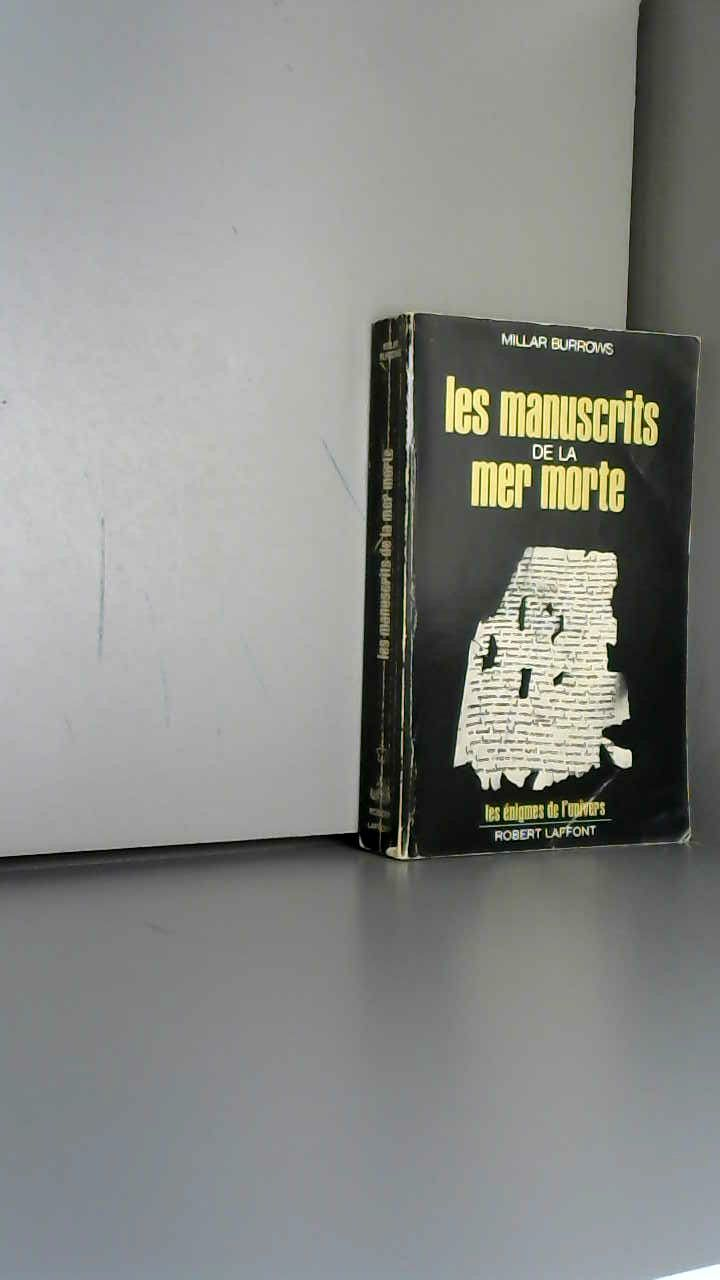book: (330, 290, 718, 899)
